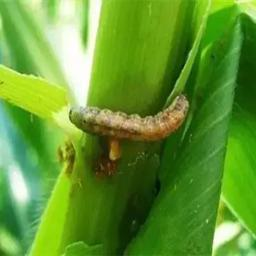Tobacco_budworm: (67, 93, 190, 145)
